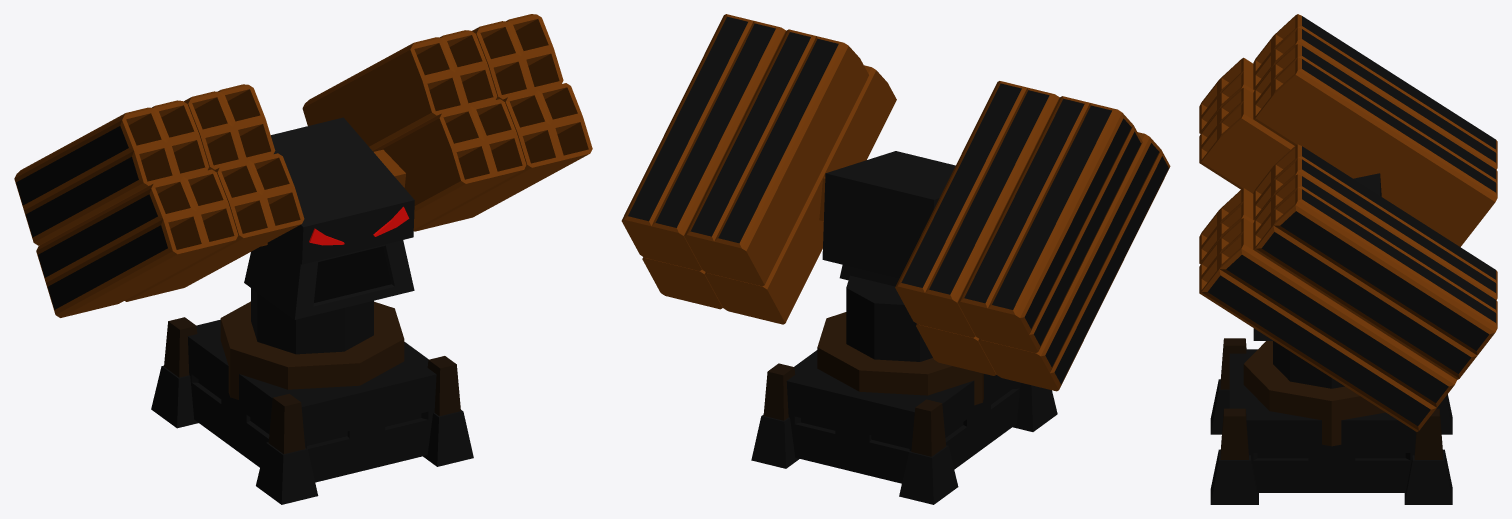
Rendered from Iron_Dome.obj.
3 views of the same model, side by side, from view 1: azimuth 30°, elevation 25°; view 2: azimuth 150°, elevation 25°; view 3: azimuth 270°, elevation 25° (orthographic). The views are drawn at different scales.
Parts seen in each view (by area): view 1: GunsMissileTurret1, BaseMissileTurret1, HeadMissileTurret1, MiddleMissileTurret1; view 2: GunsMissileTurret1, BaseMissileTurret1, HeadMissileTurret1, MiddleMissileTurret1; view 3: GunsMissileTurret1, BaseMissileTurret1, MiddleMissileTurret1, HeadMissileTurret1.
Boxes of the visible parts, x1,y1,x2,y2 form: GunsMissileTurret1: [14, 14, 592, 317]; BaseMissileTurret1: [151, 317, 473, 504]; HeadMissileTurret1: [244, 117, 414, 319]; MiddleMissileTurret1: [220, 288, 404, 399]; GunsMissileTurret1: [621, 14, 1170, 391]; BaseMissileTurret1: [751, 350, 1057, 504]; HeadMissileTurret1: [822, 151, 955, 286]; MiddleMissileTurret1: [817, 275, 983, 405]; GunsMissileTurret1: [1199, 14, 1497, 431]; BaseMissileTurret1: [1210, 338, 1452, 504]; MiddleMissileTurret1: [1243, 341, 1385, 446]; HeadMissileTurret1: [1253, 173, 1381, 340].
Size of the model in its own units: 3.6 by 3.11 by 2.37.
